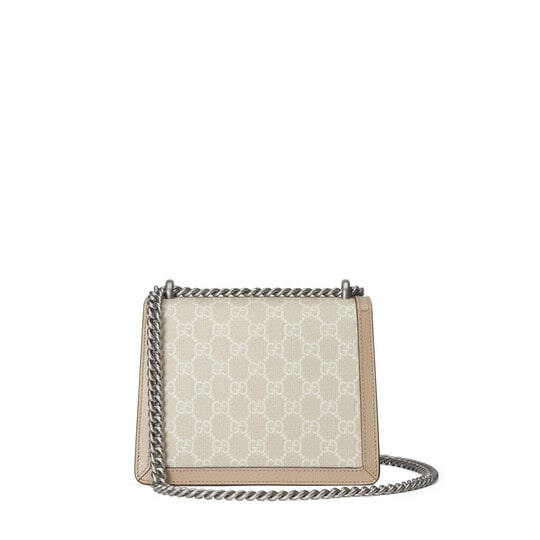Gucci: (122, 257, 384, 494), (181, 314, 360, 465), (228, 339, 255, 363), (246, 398, 277, 418), (281, 359, 306, 379)
